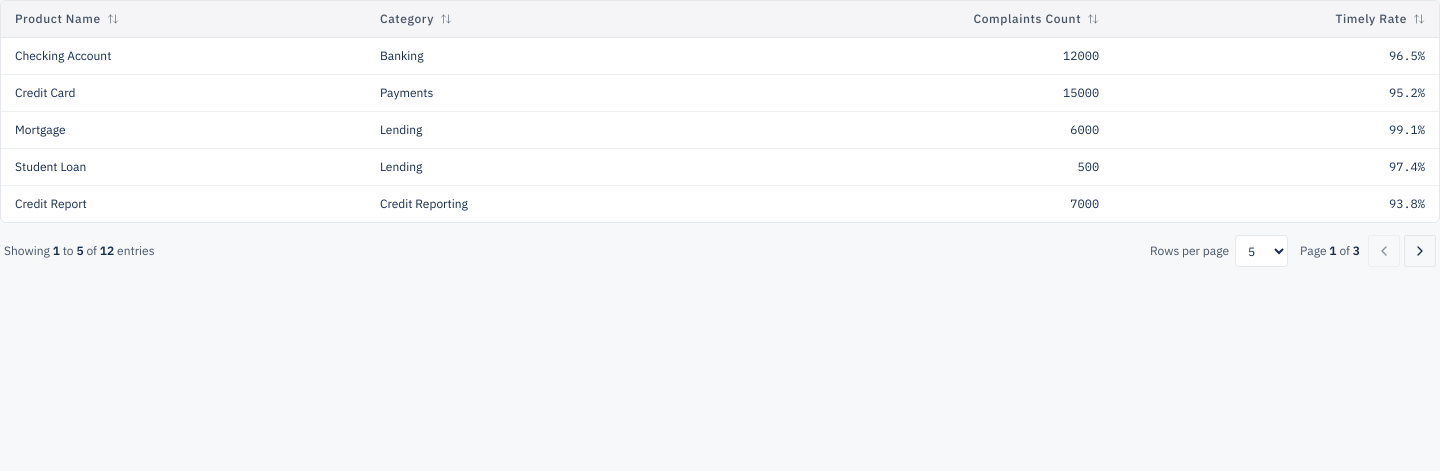
it: Day 4: DataTable Component › updates rows per page when selector changes
This screenshot has width=1440, height=471.
Select "10" in the dropdown named "Select rows per page". click: [1262, 251]
box: [1235,235,1288,267]
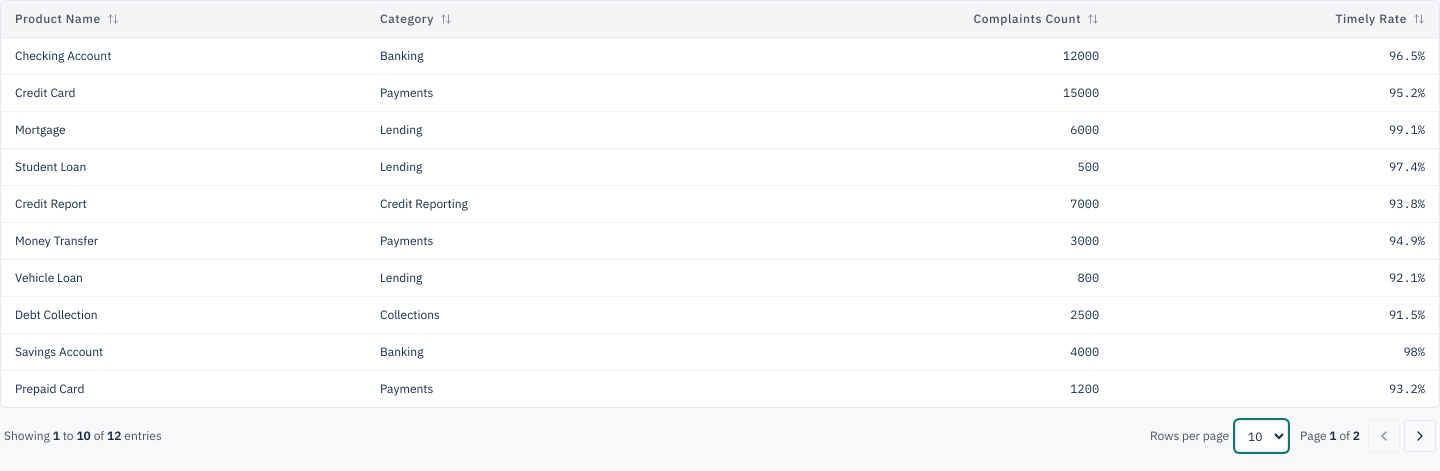
Check: the element with test id "table-pagination-summary" reads "Showing 1 to 10 of 12 entries", box [4,428,162,444]
Check: the text "Prepaid Card" is shown, box [1,370,366,407]
